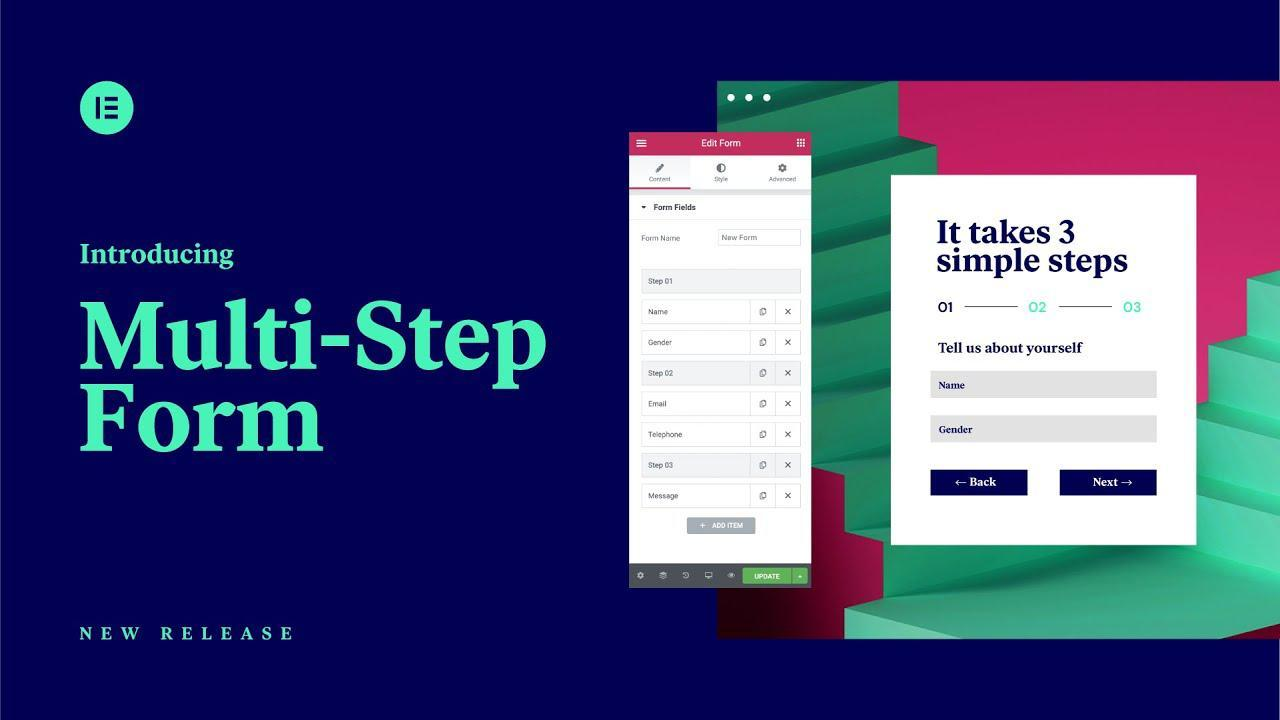button: (1059, 469, 1161, 499), (931, 469, 1030, 498), (687, 517, 756, 536)
icon: (751, 454, 777, 480), (776, 484, 802, 510), (751, 330, 776, 356), (776, 454, 802, 479), (752, 393, 777, 418), (777, 362, 802, 387), (751, 424, 777, 448), (775, 301, 801, 325), (750, 485, 776, 508), (776, 332, 802, 355), (778, 393, 802, 417), (752, 301, 777, 324), (778, 424, 801, 449), (751, 363, 776, 385), (714, 163, 728, 176), (795, 138, 809, 151), (778, 163, 790, 176), (656, 161, 667, 174), (635, 139, 650, 148)
input: (930, 414, 1159, 445), (930, 371, 1160, 400), (717, 229, 802, 248)
label: (937, 342, 1085, 358)
